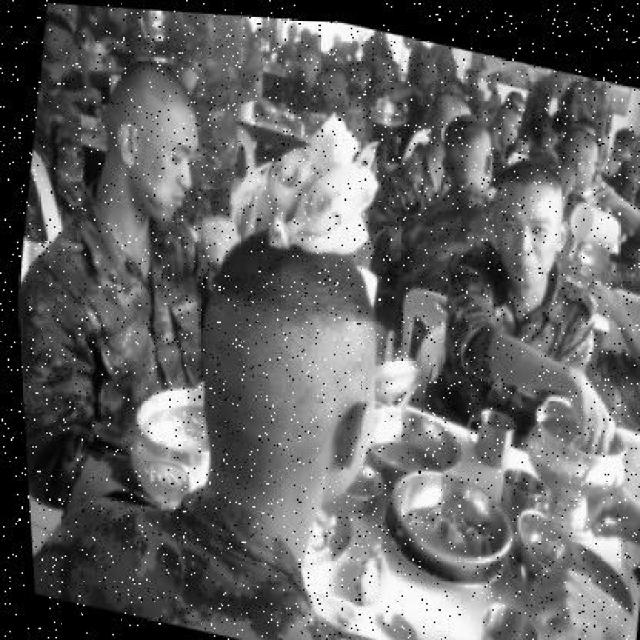MIL_Pax: (110, 194, 424, 640), (5, 60, 234, 497), (270, 15, 602, 156), (136, 7, 284, 231), (446, 170, 586, 398), (391, 111, 515, 315), (10, 14, 99, 254), (603, 170, 640, 416), (606, 113, 640, 219)
